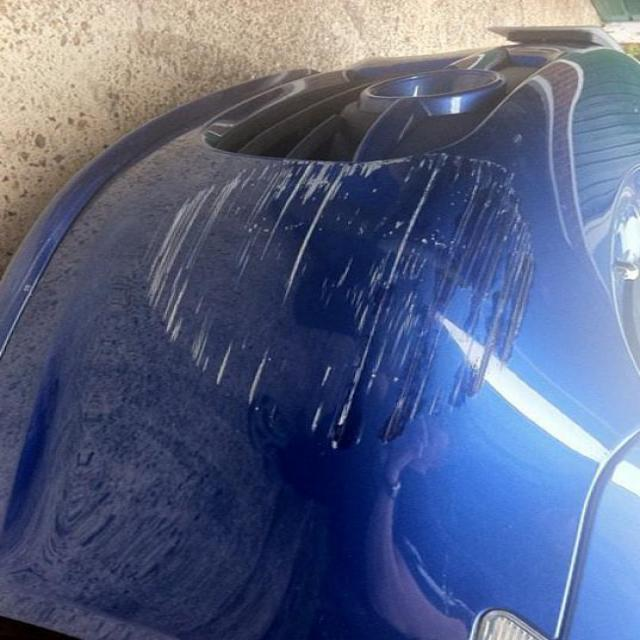scratch: (128, 139, 562, 460)
